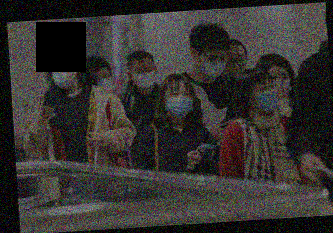with_mask: (163, 88, 194, 118), (197, 51, 229, 78), (254, 79, 278, 113), (50, 60, 75, 90), (133, 60, 156, 90), (268, 71, 291, 93), (94, 70, 113, 94)
without_mask: (222, 51, 248, 80)
